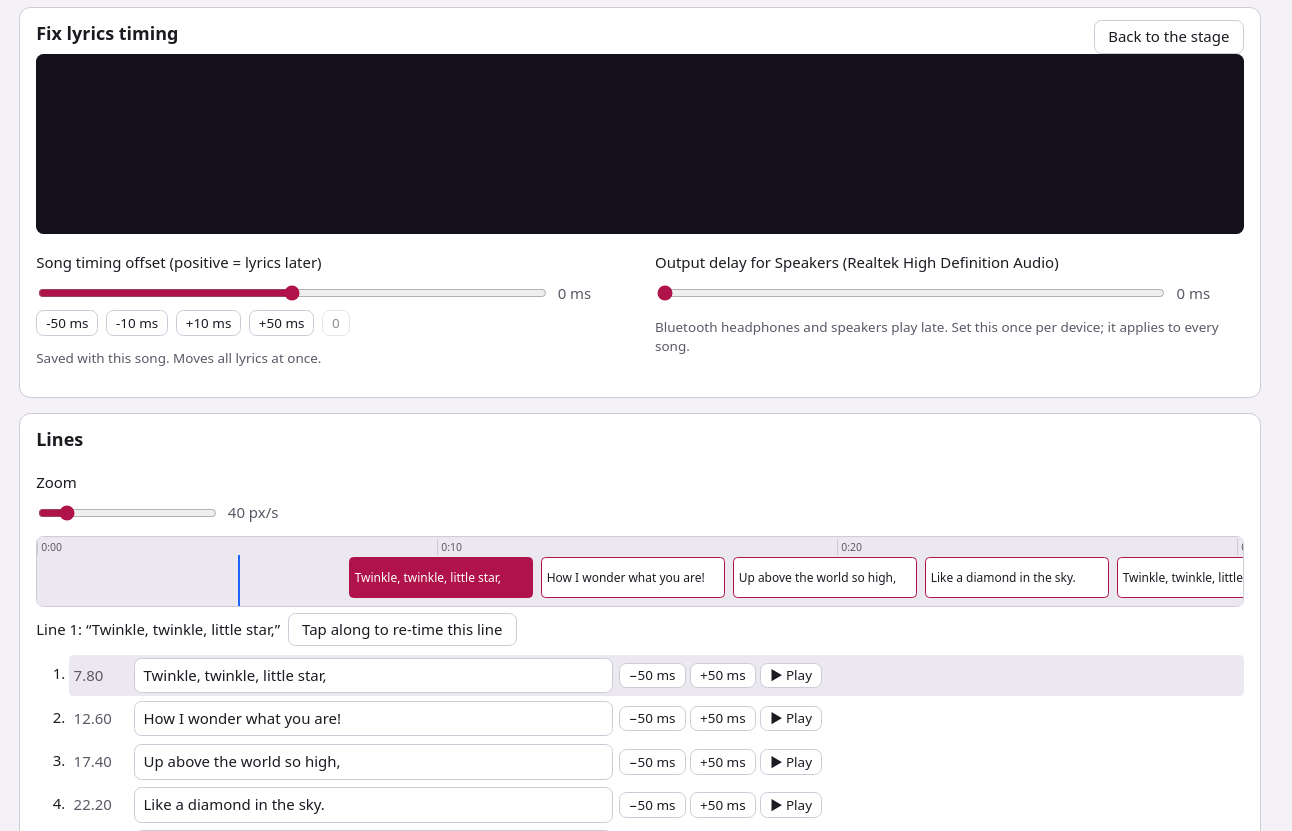
Test: functional UI on the mock › sync editor: nudges a line, saves it into the song, and resets it
The width and height of the screenshot is (1292, 831).
Later steps or results of the test are not shown.
Click the button "+50 ms" in the row of "12.60".
click(723, 718)  # box [690,706,756,731]
(page scrolled)
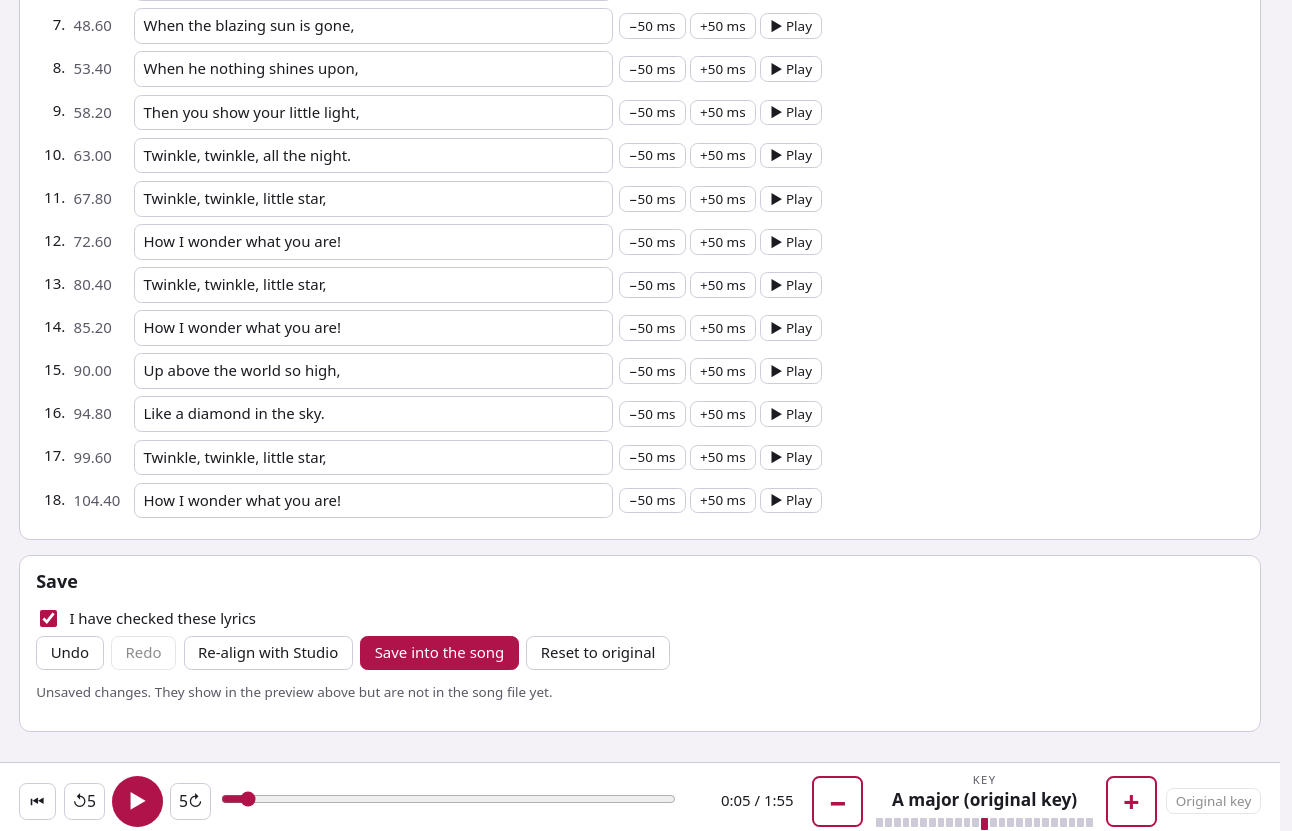
Now the button "Save into the song" is enabled, box [360,636,519,670]
